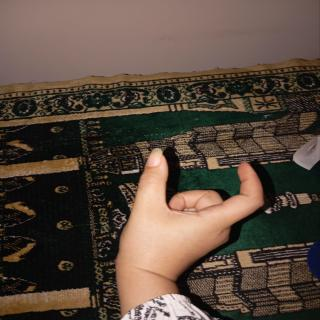NOON: (104, 137, 287, 293)
